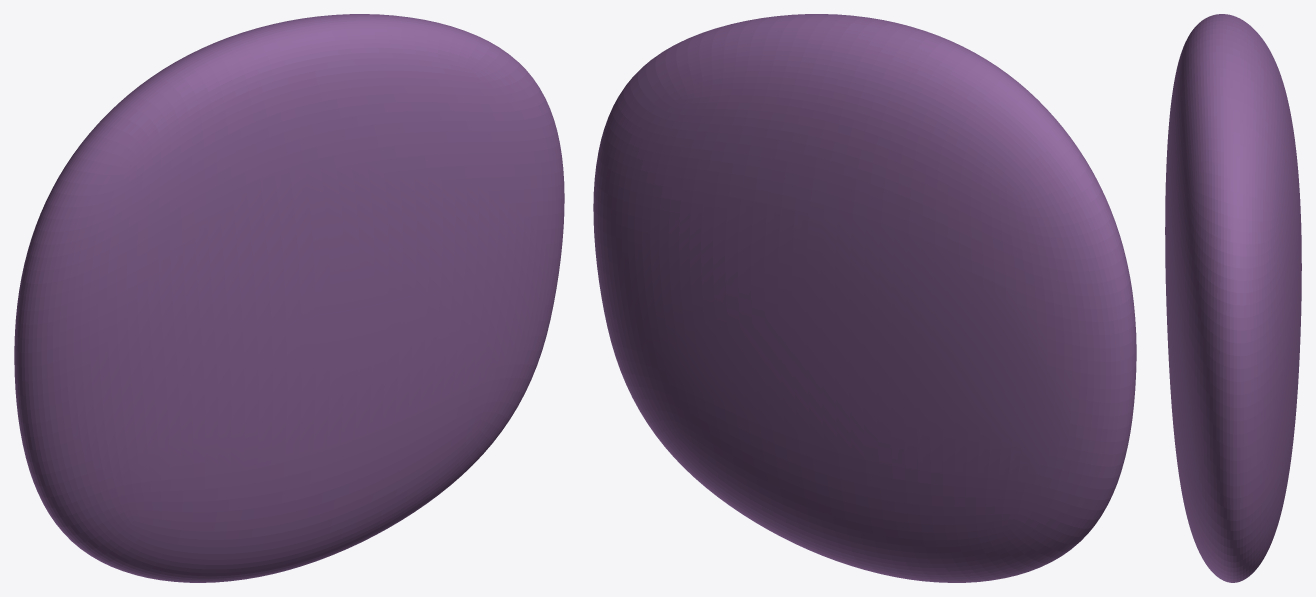
The model's file is stone_2.fbx.
The picture shows the model from 3 angles, left to right: view 1: azimuth 30°, elevation 25°; view 2: azimuth 150°, elevation 25°; view 3: azimuth 270°, elevation 25°; orthographic projection. The views are drawn at different scales.
Parts seen in each view (by area): view 1: Cube.007; view 2: Cube.007; view 3: Cube.007.
Part boxes in pixels (box(x1,y1,x2,y2)): Cube.007: box(14, 14, 564, 582); Cube.007: box(593, 14, 1136, 582); Cube.007: box(1165, 14, 1301, 582).
Size of the model in its own units: 271 by 261 by 64.34.
